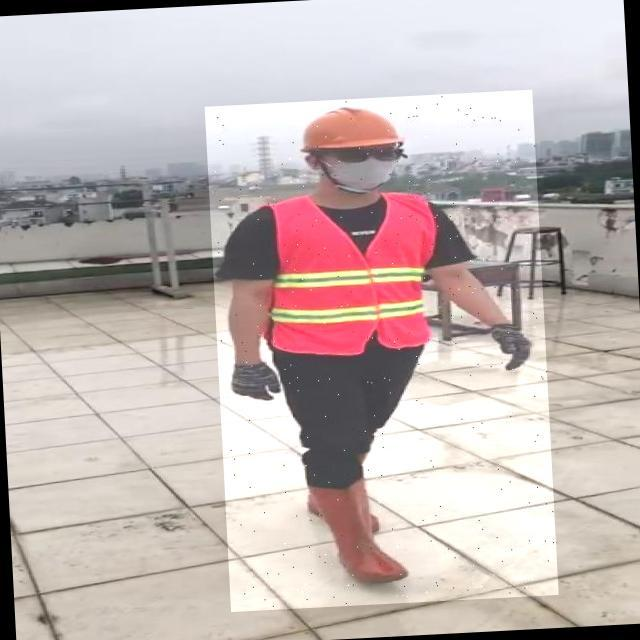Gloves: (486, 322, 535, 373), (228, 361, 286, 404)
Helmet: (289, 101, 405, 156)
Human: (205, 90, 559, 612)
Safety Boot: (307, 478, 408, 590), (352, 452, 369, 475)
Safety Vest: (262, 190, 442, 359)
